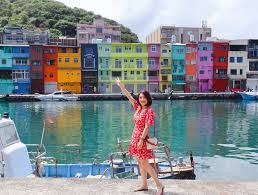people: (128, 90, 164, 195)
